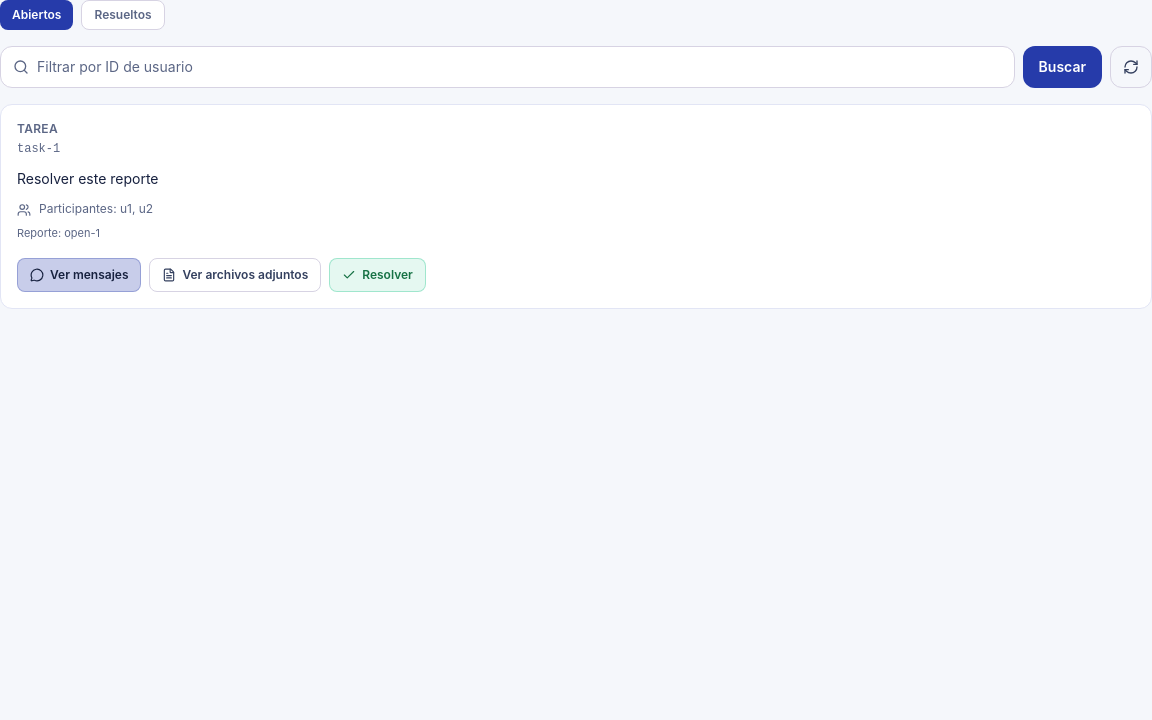
Test case: TaskReportsTab › informa si el backend todavía no tiene disponible el endpoint de estado
Click the button "Resolver" at (378, 274), box [329,258,426,292]
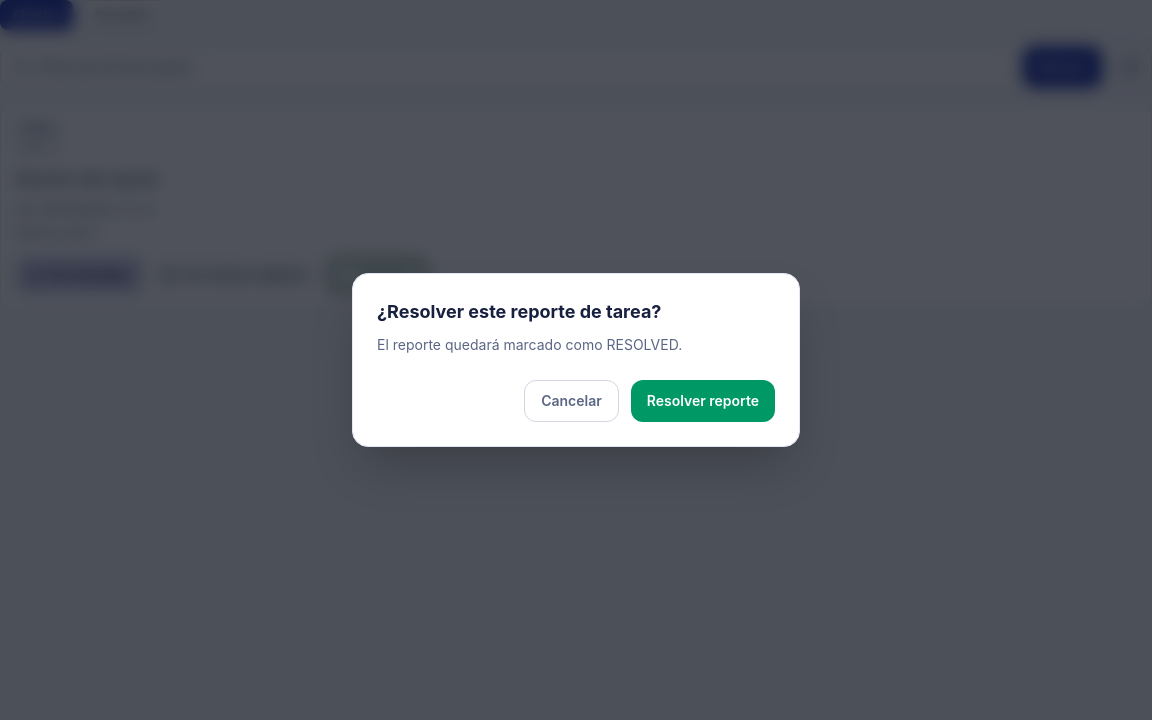
Click the button "Resolver reporte" at (703, 401), box [631,380,775,422]
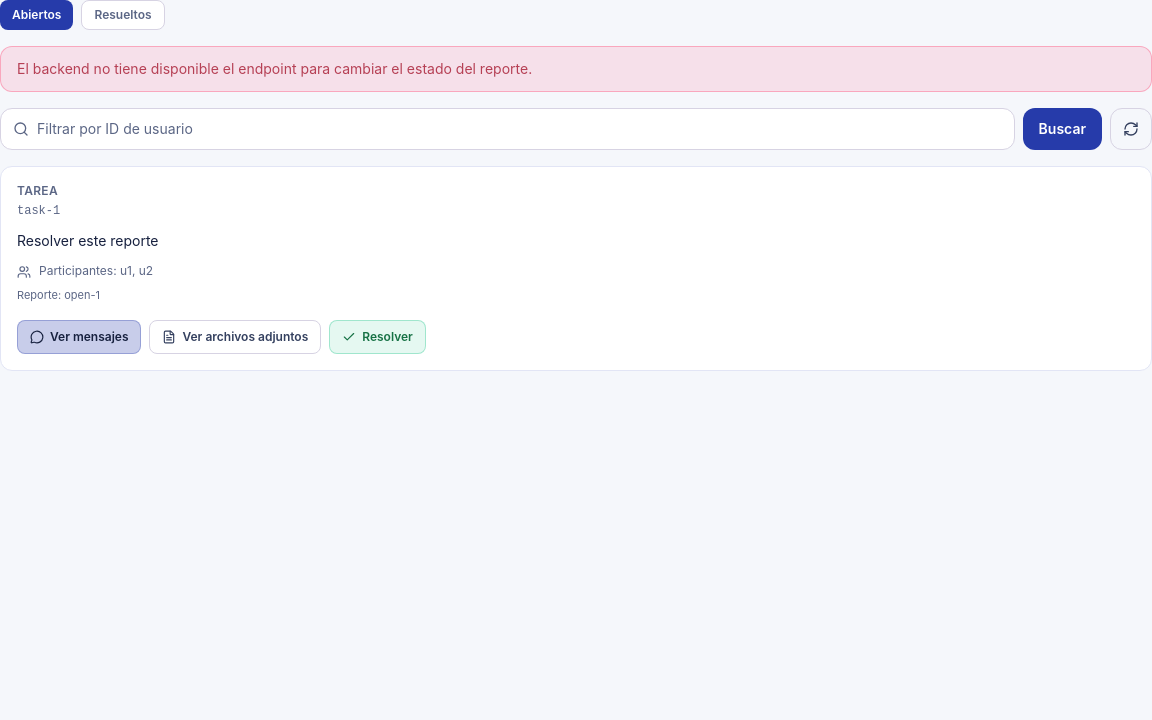
Expected: the message shows "El backend no tiene disponible el endpoint", [17,60,532,77]
